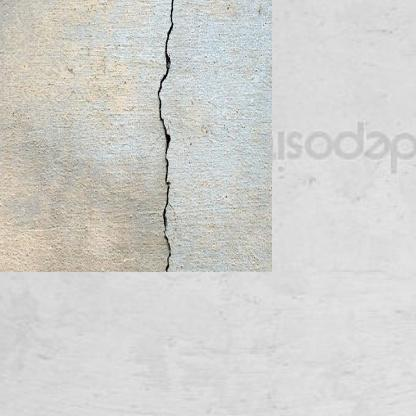Cracks: (144, 0, 164, 251)
